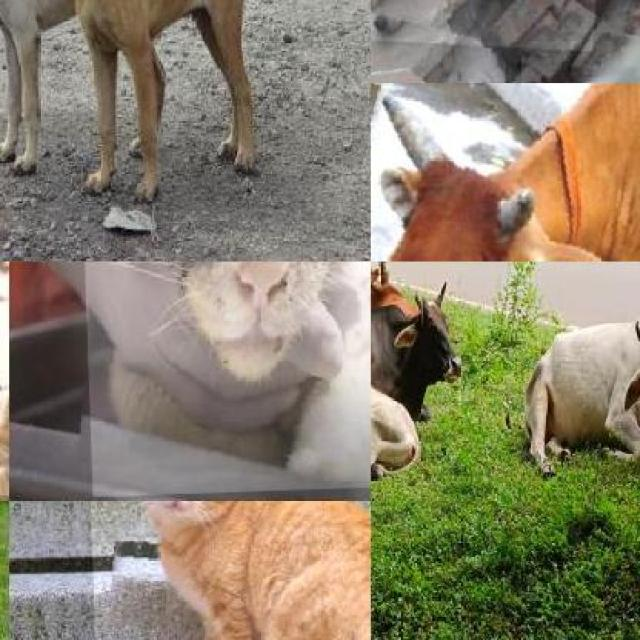cat: (72, 261, 371, 497), (87, 500, 370, 640)
cow: (371, 83, 640, 262), (529, 331, 640, 475), (370, 285, 464, 397), (371, 362, 418, 483), (371, 263, 391, 314)
dog: (49, 0, 271, 206), (0, 0, 78, 157)
